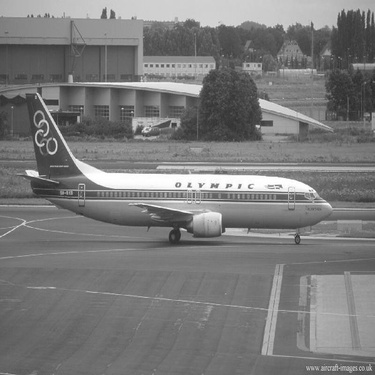airplane: (10, 84, 341, 254)
